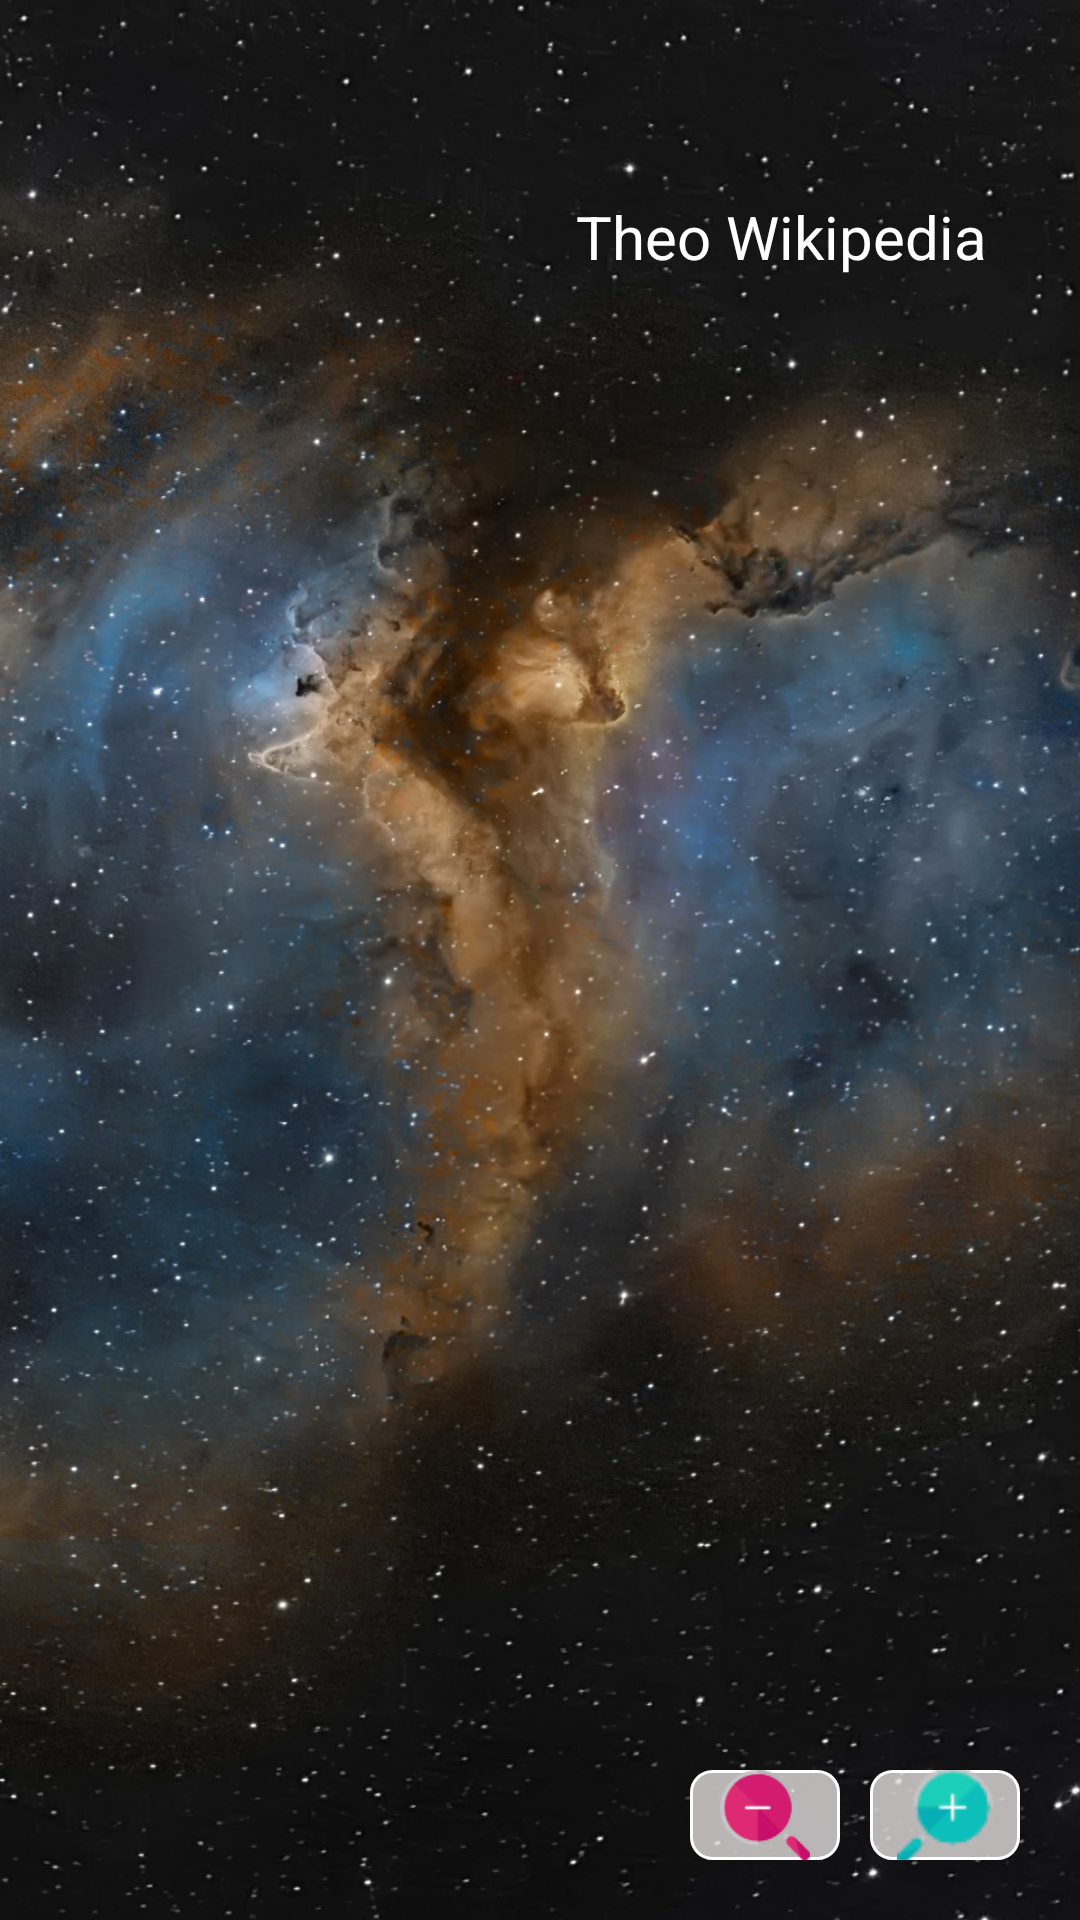

Locate icon controls on the screen. Image size 1080x1920, boxes as [x1, y1, x2, y2].
zoom in: [870, 1770, 1020, 1860]
zoom out: [690, 1770, 840, 1860]
